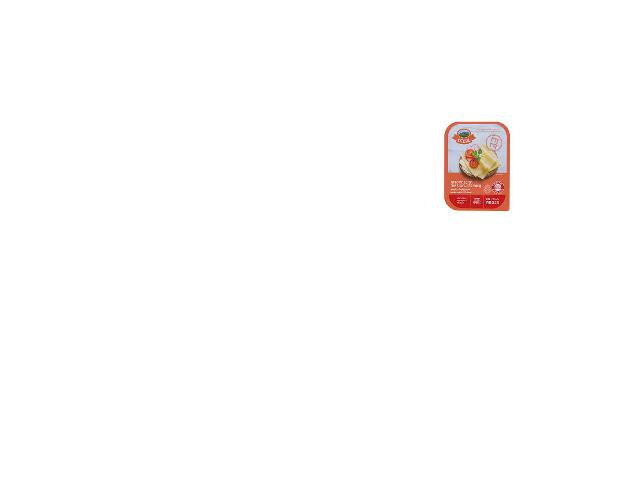cheese: (439, 119, 511, 216)
